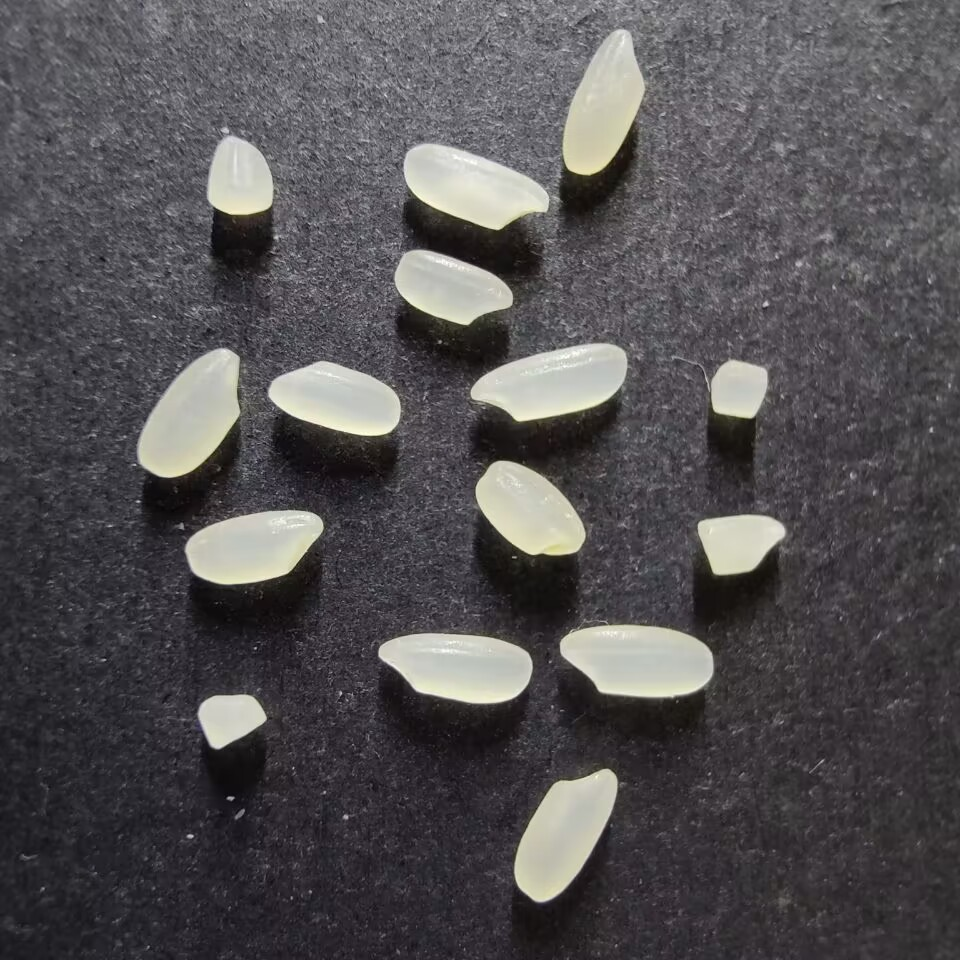broken: (696, 514, 786, 575), (206, 135, 273, 215), (197, 694, 267, 750), (710, 359, 768, 419)
rice: (513, 767, 618, 903), (136, 348, 242, 478), (403, 142, 549, 230), (469, 343, 626, 422), (561, 28, 645, 175), (558, 624, 714, 698), (377, 632, 532, 704), (184, 509, 324, 585), (474, 460, 584, 556), (267, 360, 400, 436), (393, 249, 513, 325)
